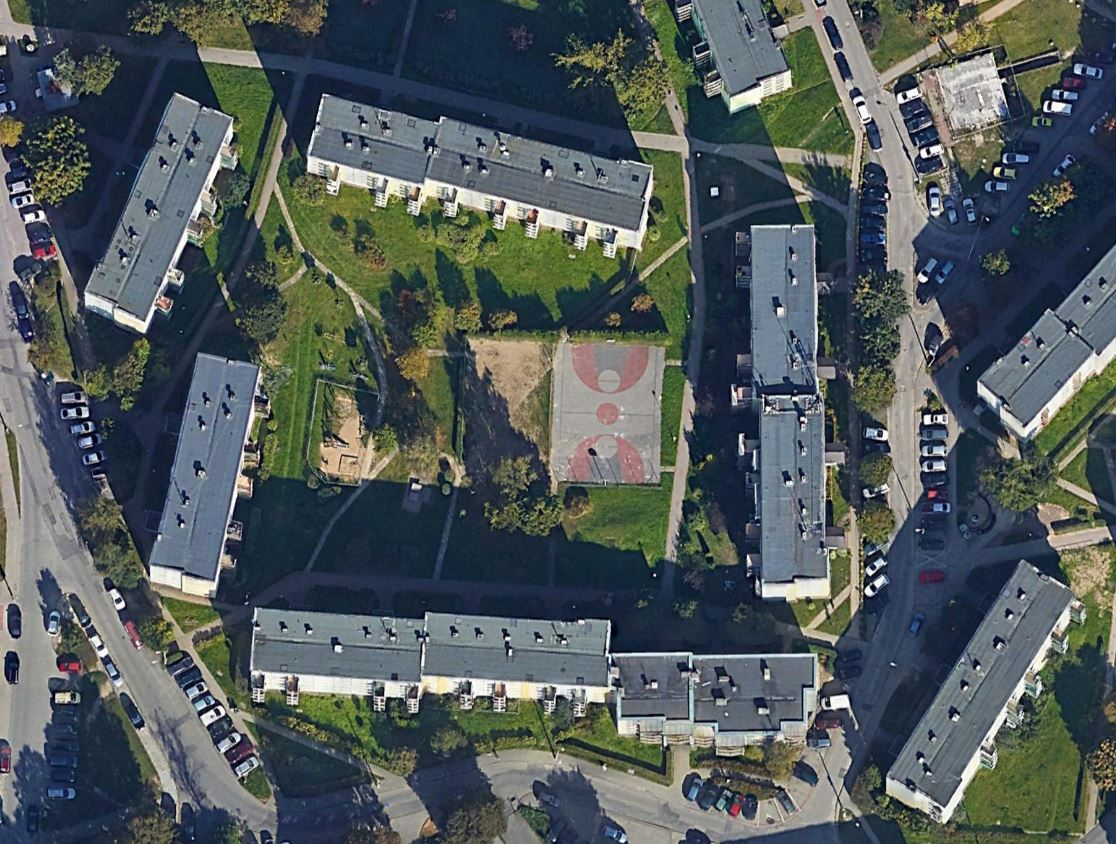block of flats: (239, 585, 840, 769), (301, 83, 659, 269), (870, 547, 1101, 828), (722, 202, 836, 617), (76, 84, 245, 346), (134, 342, 283, 614), (969, 238, 1116, 451), (661, 1, 808, 118)
